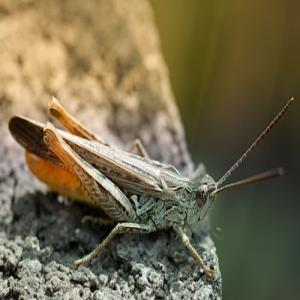locust: (14, 127, 270, 261)
